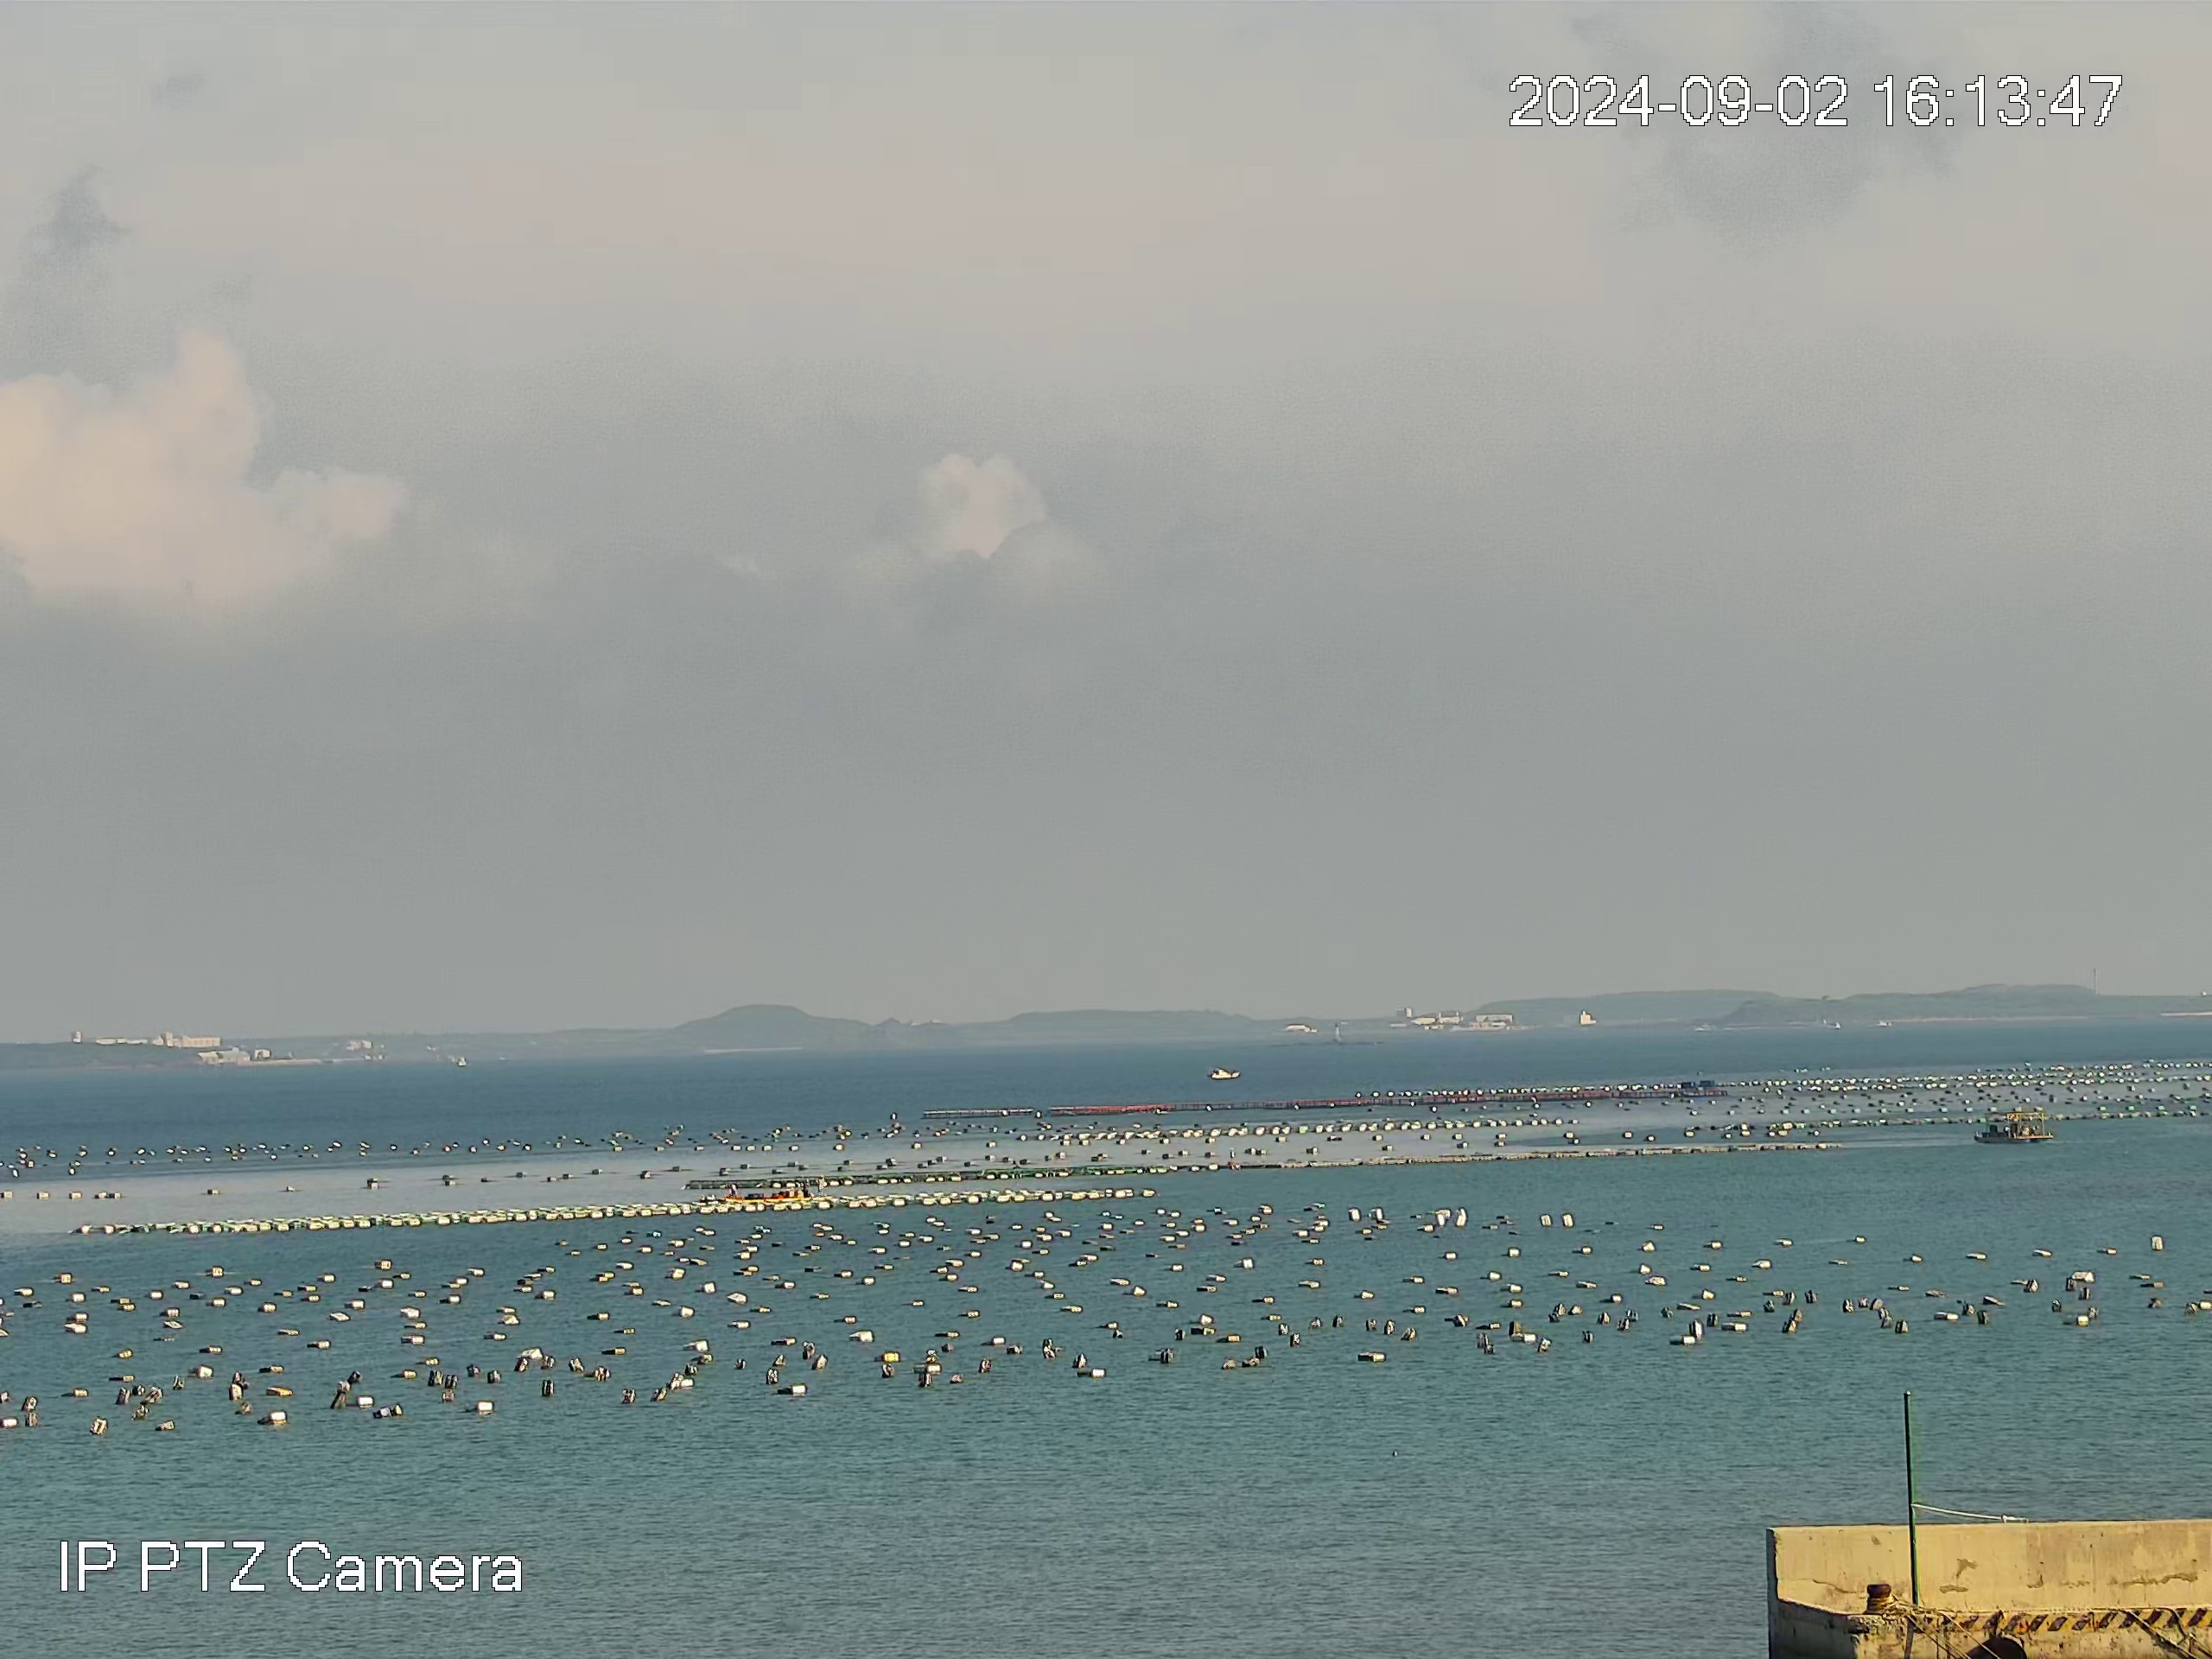boat: (1973, 1110, 2055, 1143), (723, 1178, 812, 1202), (1209, 1066, 1242, 1080)
